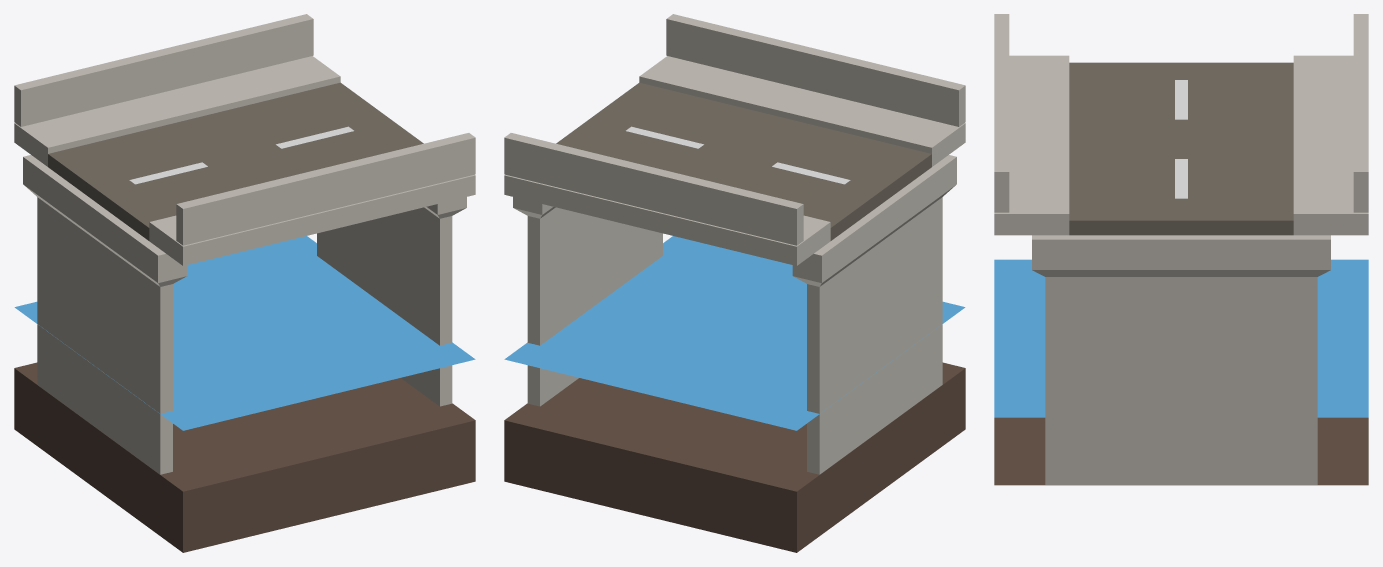
Rendered from road-tile-bridge_small.fbx.
The picture shows the model from 3 angles, left to right: view 1: azimuth 30°, elevation 25°; view 2: azimuth 150°, elevation 25°; view 3: azimuth 270°, elevation 25°; orthographic projection. The views are drawn at different scales.
Parts seen in each view (by area): view 1: road-tile-bridge_small; view 2: road-tile-bridge_small; view 3: road-tile-bridge_small.
Part boxes in pixels (bbox=[...]): road-tile-bridge_small: bbox=[14, 14, 475, 552]; road-tile-bridge_small: bbox=[504, 14, 965, 552]; road-tile-bridge_small: bbox=[994, 14, 1368, 485].
Bounding box in the file's own units: 1055 × 1123 × 1000.
